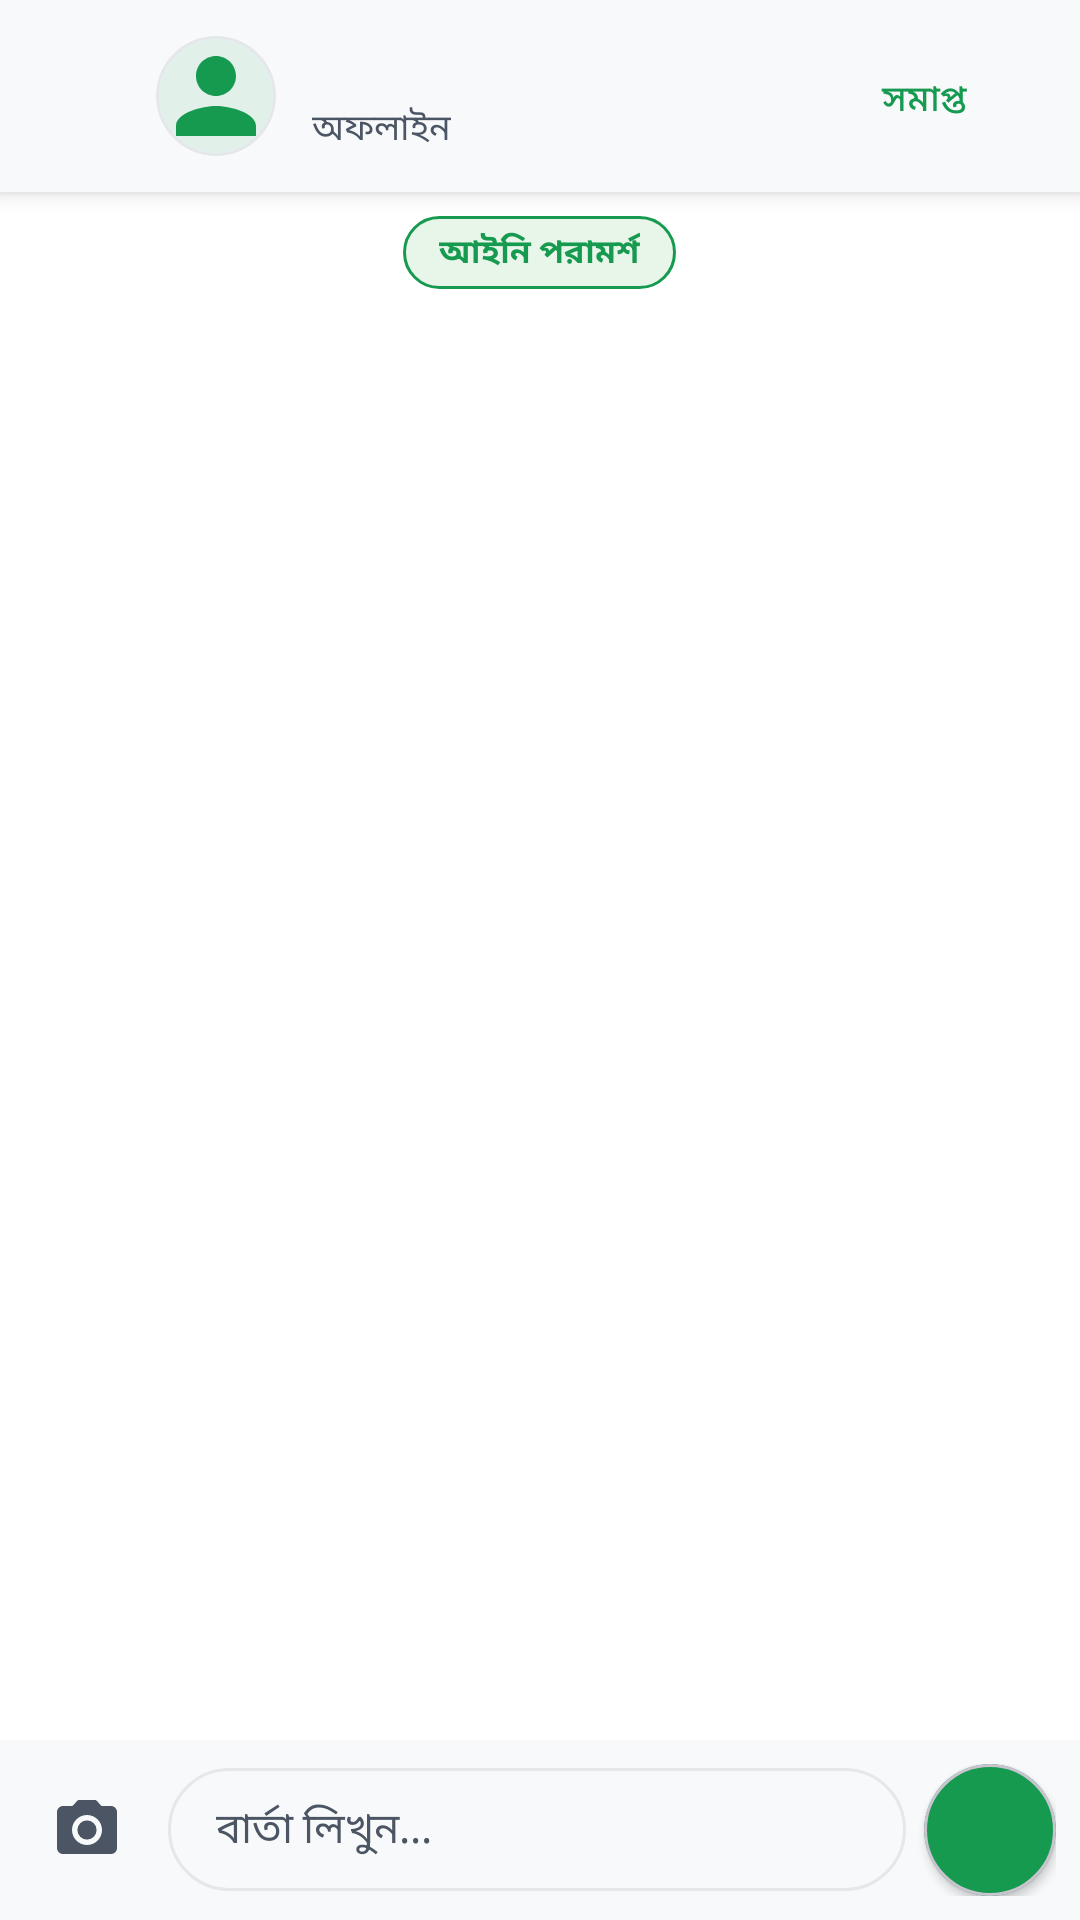

Named icons in this screenshot (1080px×1920px) and their bounding boxes, BBox(x1, y1, x2, y2):
Attach document or image: BBox(57, 1800, 117, 1854)
